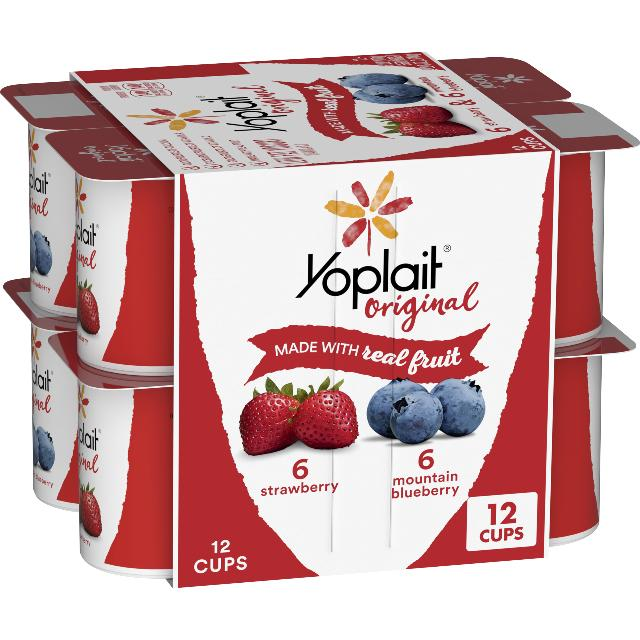yogurt: (2, 53, 636, 587)
